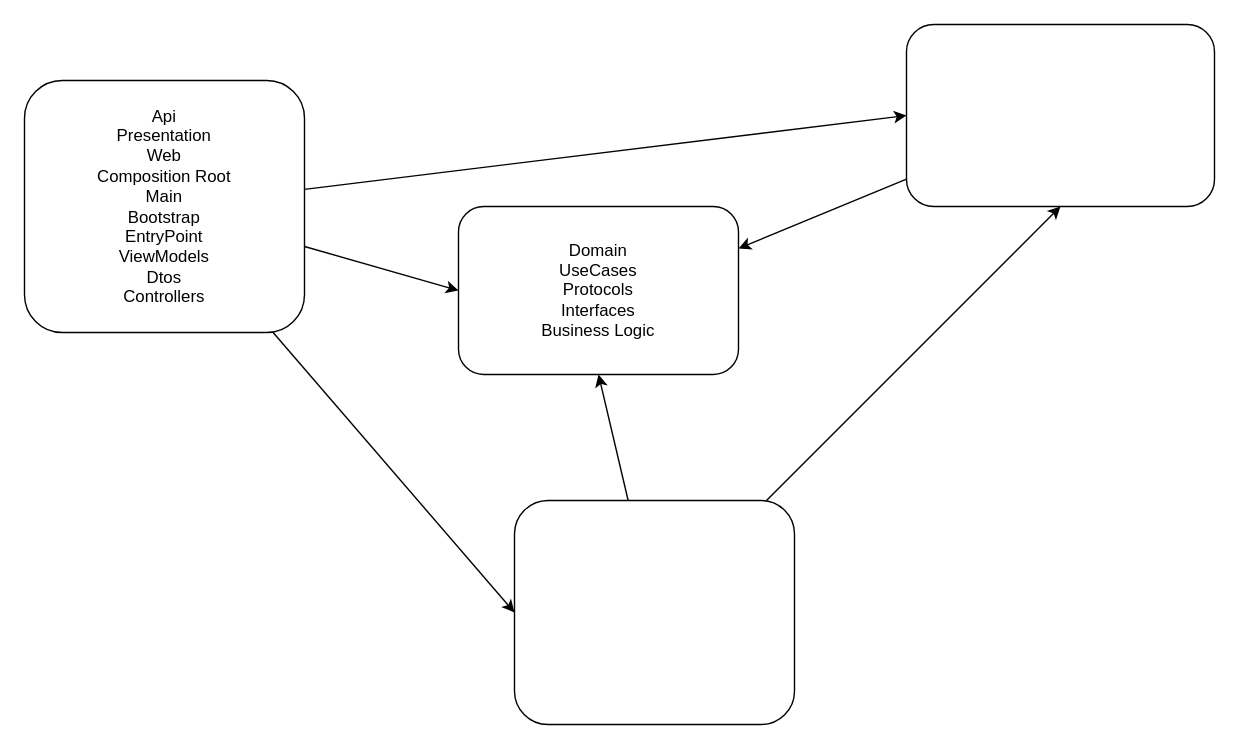
Some shapes in this 1239 by 749 pixel diagram are drawn without their labels. The centre of each missing label's shape, as x and y in pixels:
Data Abstractions Ports & Adapters Repositories Services: pixel 1059 114
Infra Data Implementations Services: pixel 653 611
